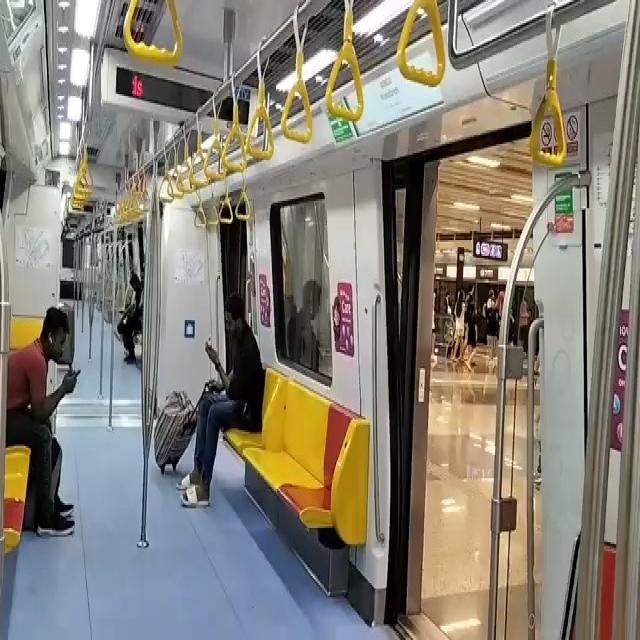bus-door: (382, 156, 548, 640)
